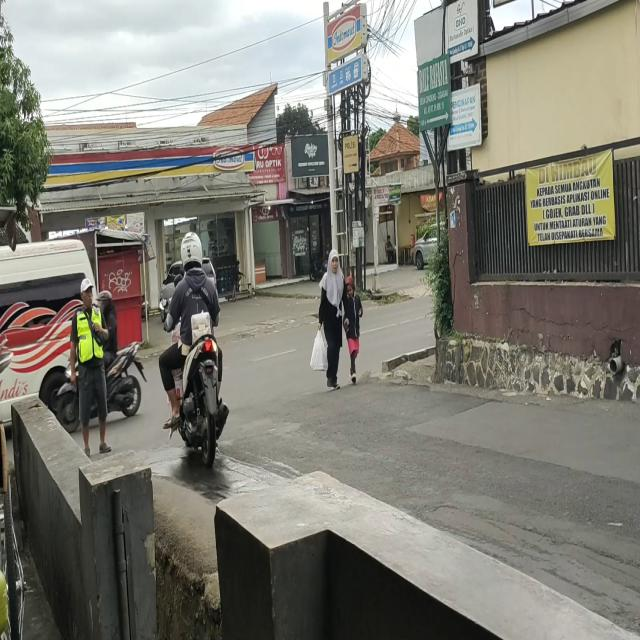helmet: (182, 232, 202, 266)
